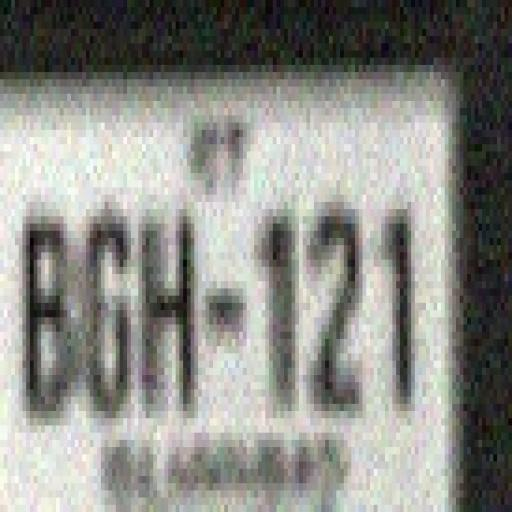1: (374, 211, 434, 422), (259, 213, 298, 404)
2: (304, 212, 366, 408)
B: (19, 209, 76, 437)
G: (80, 222, 129, 415)
H: (129, 204, 202, 416)
